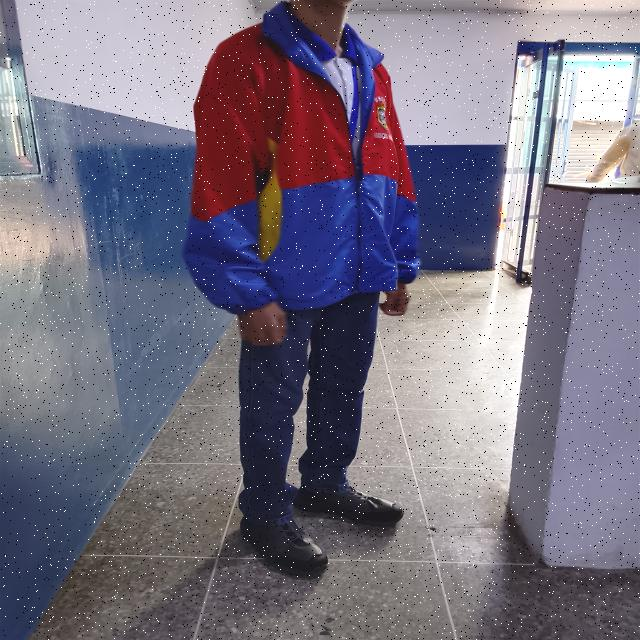chaqueta_unefa: (180, 0, 422, 314)
